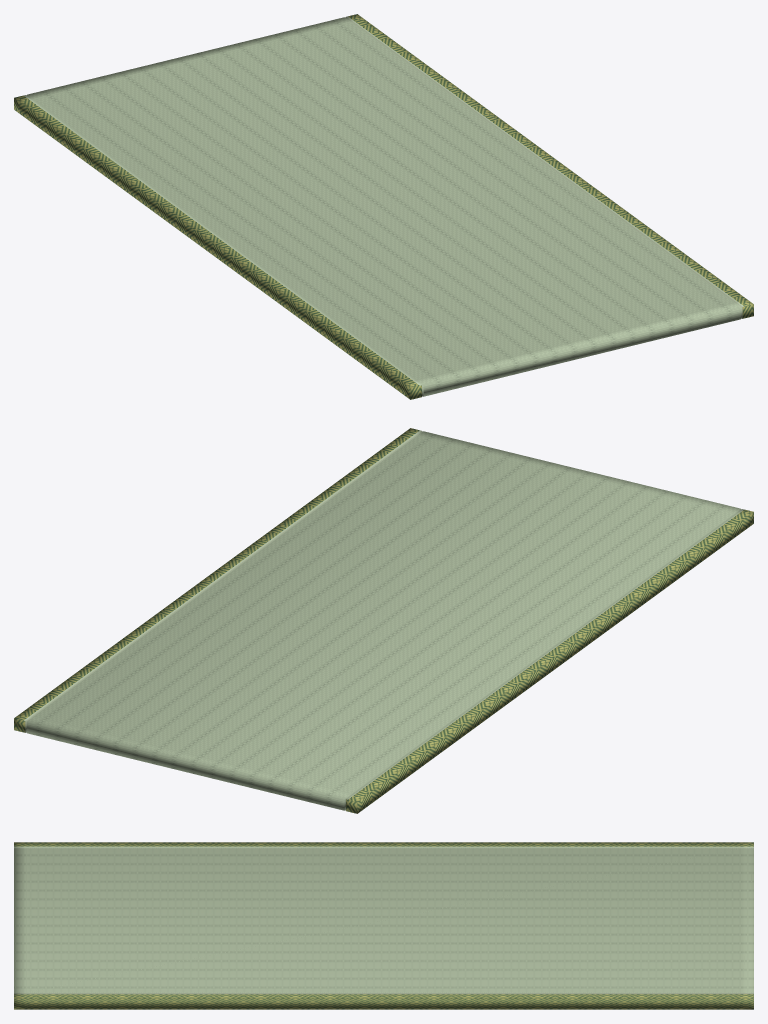
Rendered from tatami.fbx.
The picture shows the model from 3 angles, top to bottom: view 1: azimuth 30°, elevation 25°; view 2: azimuth 150°, elevation 25°; view 3: azimuth 270°, elevation 25°; orthographic projection. The views are drawn at different scales.
Visible parts, largest first — view 1: 平面; view 2: 平面; view 3: 平面.
Boxes of the visible parts, x1,y1,x2,y2 form: 平面: [14, 14, 753, 399]; 平面: [14, 428, 753, 813]; 平面: [14, 842, 753, 1009].
Bounding box in the file's own units: 91 × 3 × 182.
